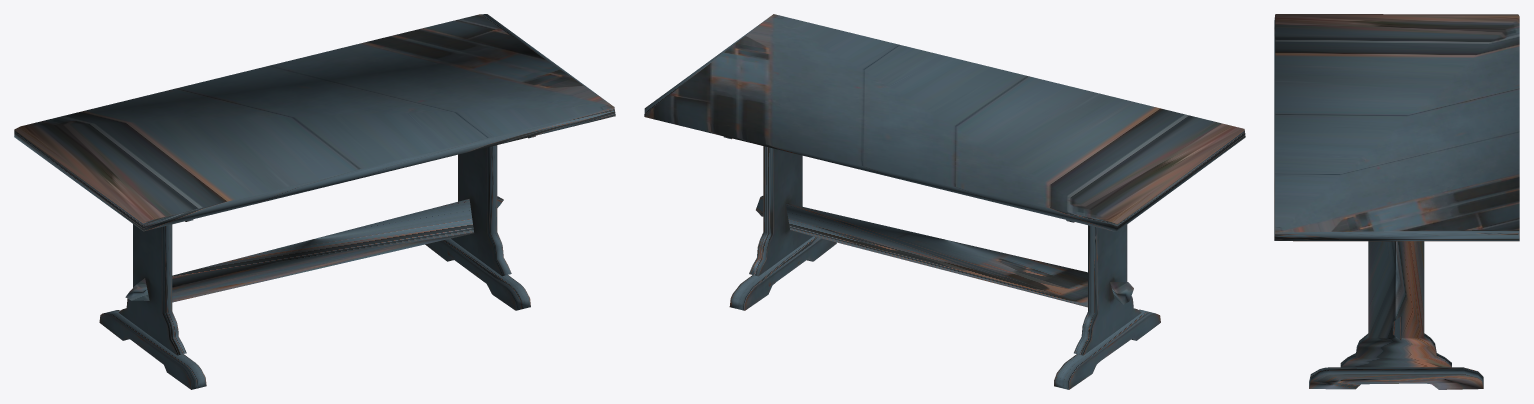
Rendered from painted_wooden_table.glb.
3 renders of one model, left to right at view 1: azimuth 30°, elevation 25°; view 2: azimuth 150°, elevation 25°; view 3: azimuth 270°, elevation 25°, orthographic. The views are drawn at different scales.
Visible parts, largest first — view 1: painted_wooden_table; view 2: painted_wooden_table; view 3: painted_wooden_table.
Boxes of the visible parts, <box> form: painted_wooden_table: <box>14,14,615,389</box>; painted_wooden_table: <box>644,14,1245,389</box>; painted_wooden_table: <box>1274,14,1519,389</box>.
Bounding box in the file's own units: 2.4 × 0.9586 × 1.13.
1 material, 1 textured.
